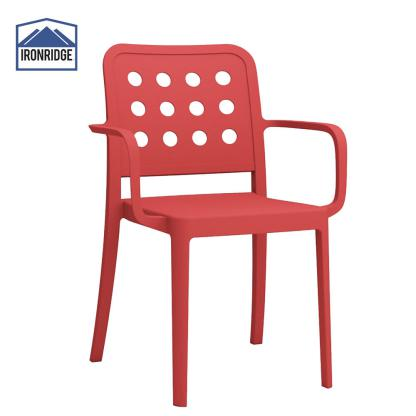chair: (85, 44, 350, 416)
